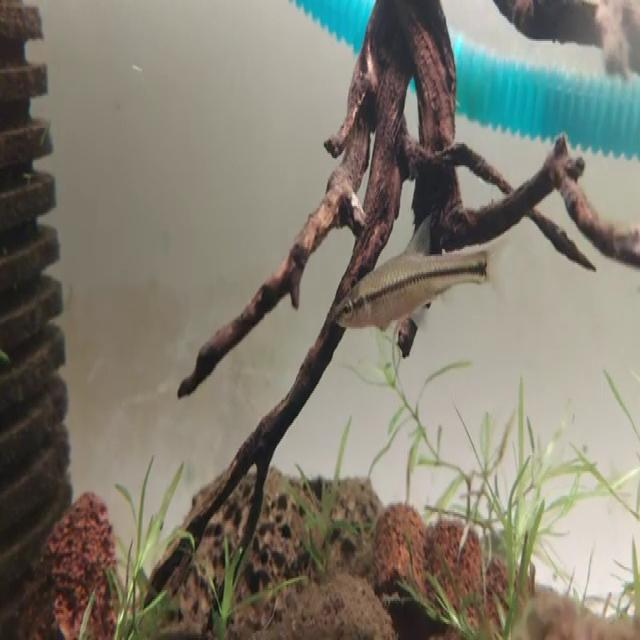Cakil Baligi: (330, 214, 506, 353)
